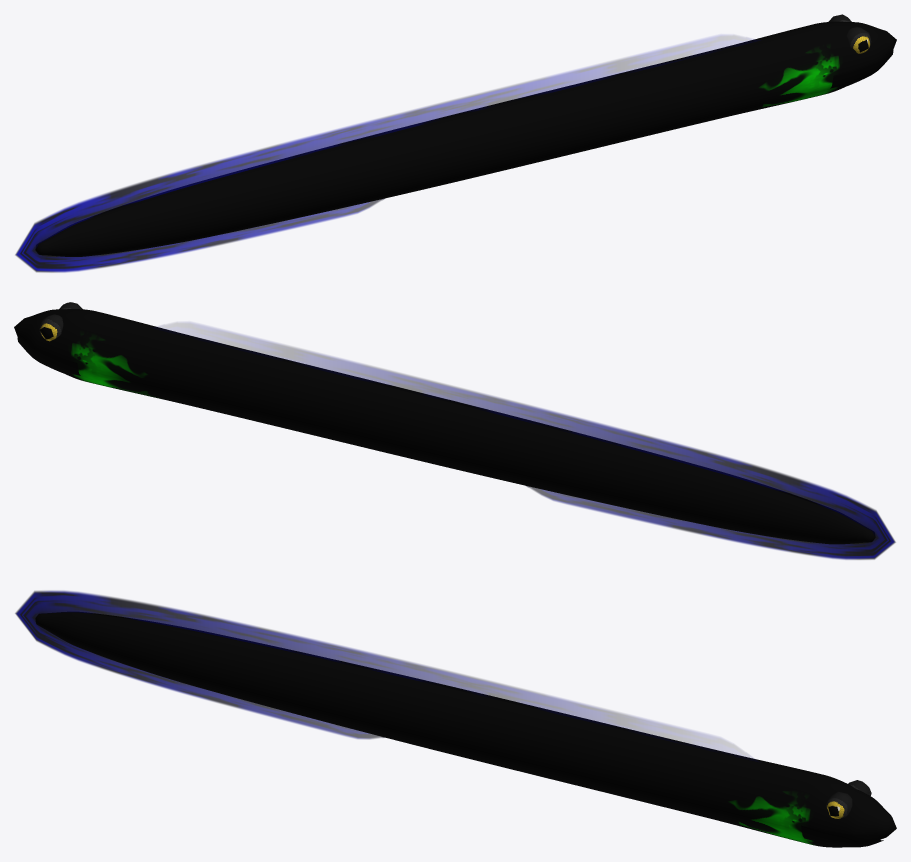
The model's file is eel_lod1.glb.
3 renders of one model, top to bottom at view 1: azimuth 30°, elevation 25°; view 2: azimuth 150°, elevation 25°; view 3: azimuth 330°, elevation 25°, orthographic.
Visible parts, largest first — view 1: Body, FinDorsal, JawLower; view 2: Body, FinDorsal, JawLower; view 3: Body, FinDorsal, JawLower, EyeR.
Boxes of the visible parts, x1,y1,x2,y2 form: Body: (35, 21, 896, 256); FinDorsal: (15, 35, 755, 272); JawLower: (830, 50, 893, 88); Body: (14, 309, 875, 544); FinDorsal: (154, 323, 895, 559); JawLower: (17, 338, 80, 375); Body: (35, 612, 896, 847); FinDorsal: (15, 590, 754, 760); JawLower: (801, 825, 883, 847); EyeR: (825, 791, 852, 819).
Size of the model in its own units: 1 by 0.1014 by 0.0639.
Materials: 4 (3 with a texture image).
